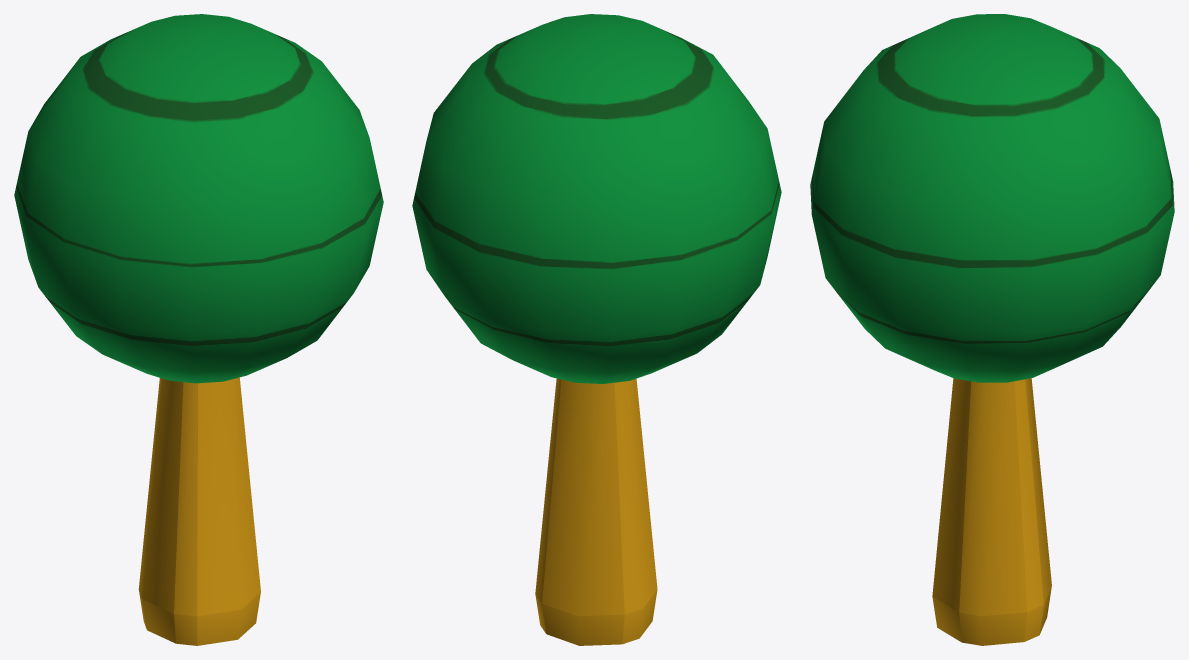
The model's file is TreeLow.fbx.
The picture shows the model from 3 angles, left to right: view 1: azimuth 30°, elevation 25°; view 2: azimuth 150°, elevation 25°; view 3: azimuth 270°, elevation 25°; orthographic projection.
Visible parts, largest first — view 1: Foliage; view 2: Foliage; view 3: Foliage.
Boxes of the visible parts, <box> form: Foliage: <box>14,14,383,645</box>; Foliage: <box>412,14,781,645</box>; Foliage: <box>810,14,1174,645</box>.
Bounding box in the file's own units: 1.04 × 1.86 × 1.04.
